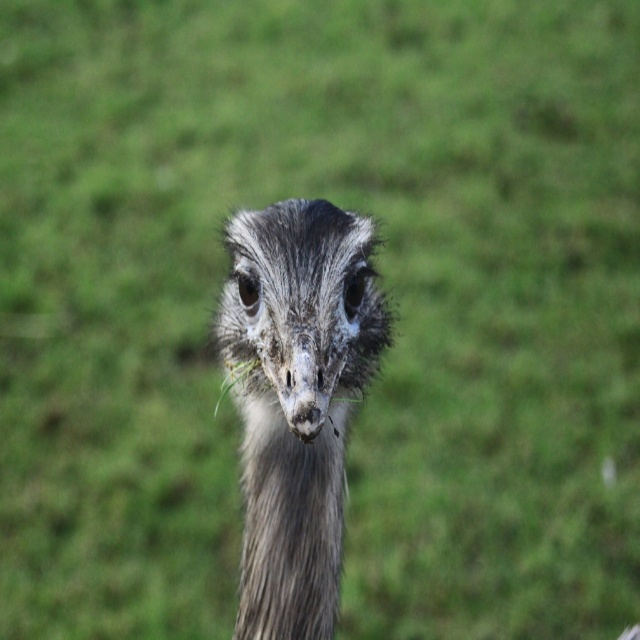Ostrich: (206, 193, 402, 640)
